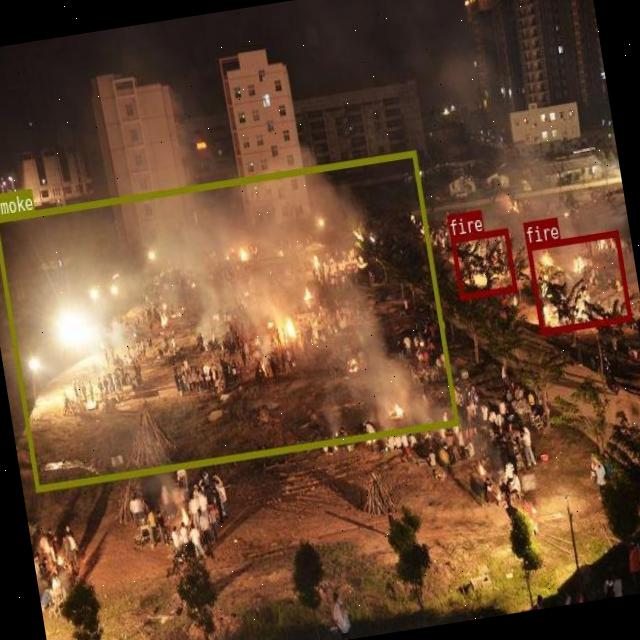fire: (526, 230, 632, 334), (449, 227, 516, 299)
smoke: (0, 150, 458, 491)
